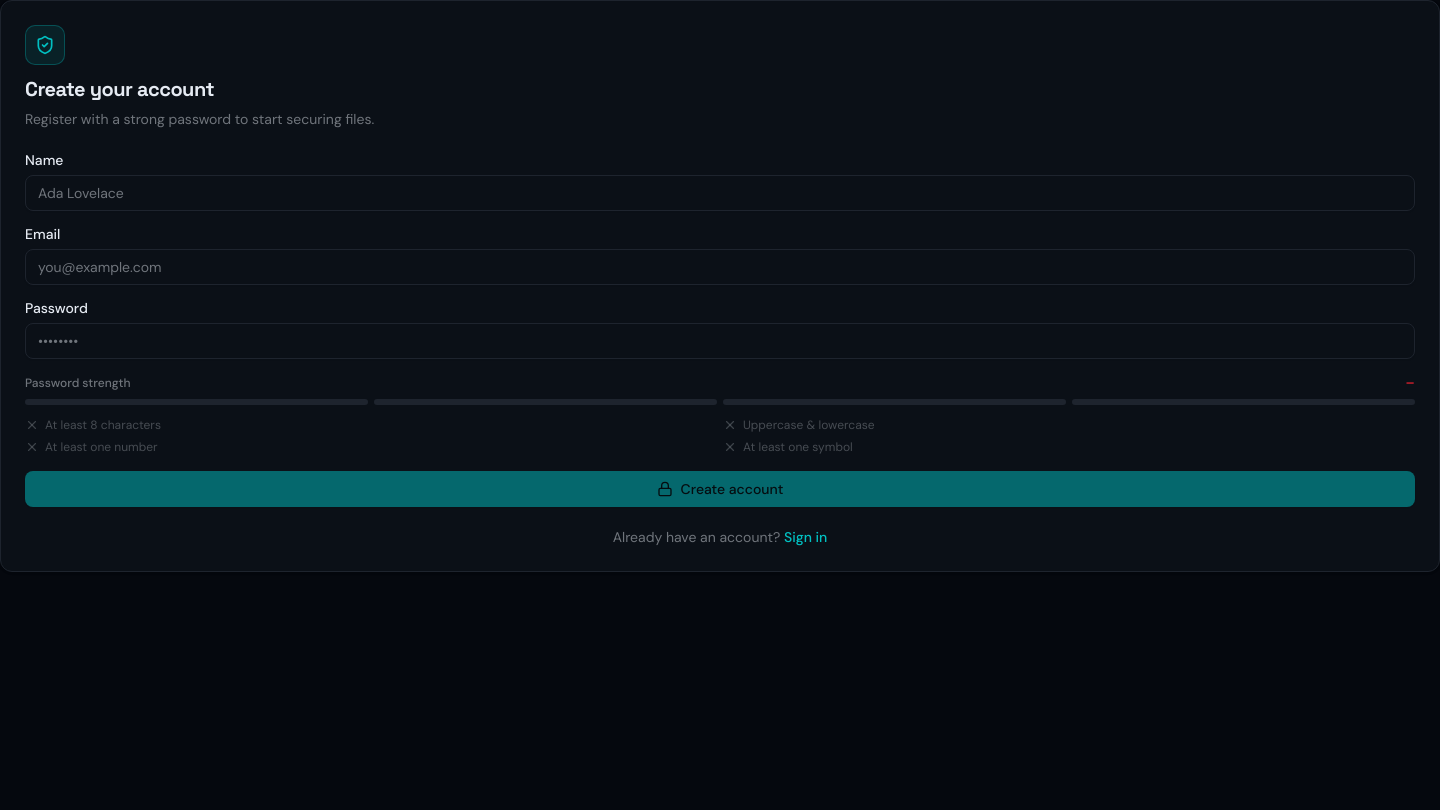
Test: RegisterPage › shows password strength and disables submit for a weak password
This screenshot has width=1440, height=810.
Type "Alice" into the field with test id "register.name_input". click: [720, 193]
box: x1=25 y1=175 x2=1415 y2=211
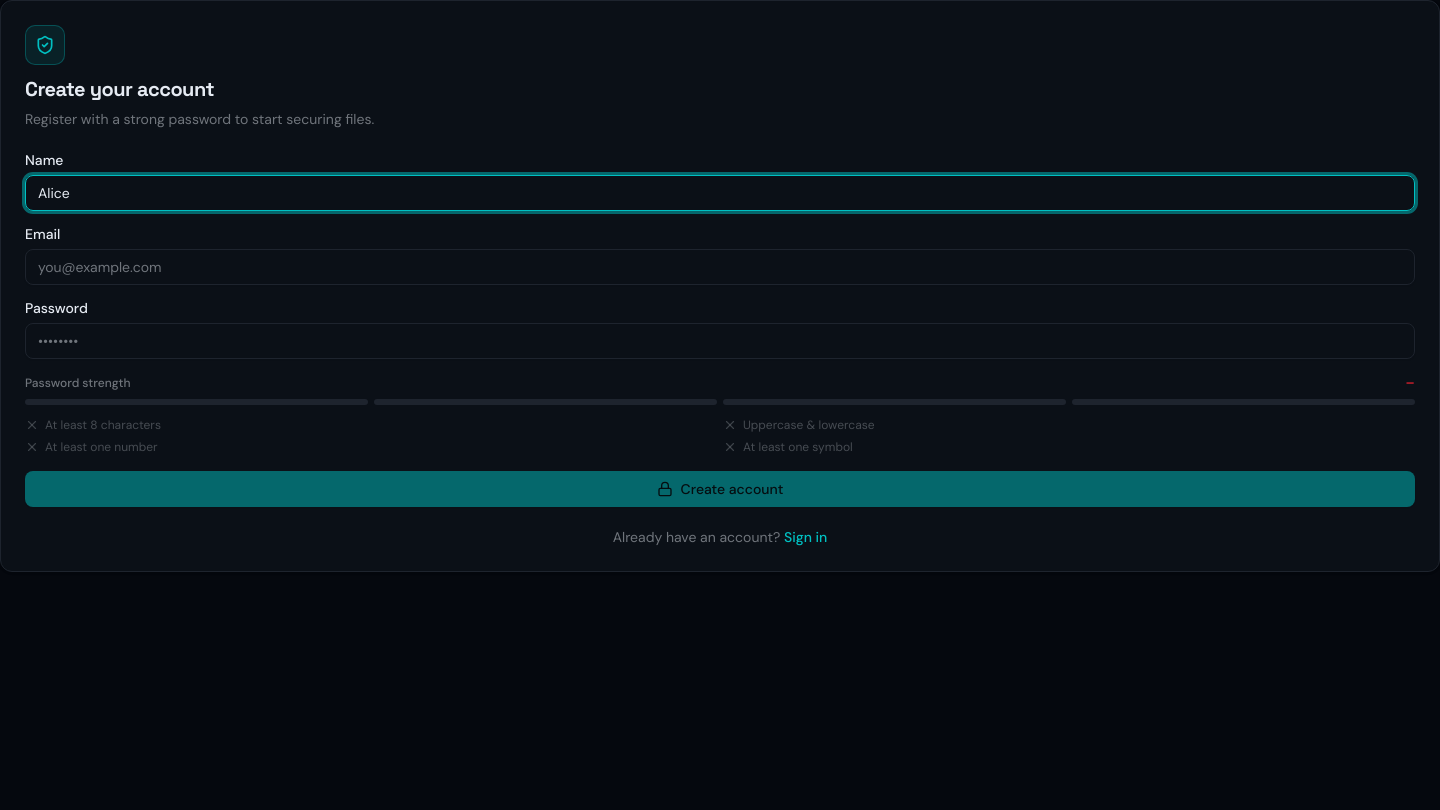
Type "alice@example.com" into the field with test id "register.email_input". click: [720, 267]
box: x1=25 y1=249 x2=1415 y2=285
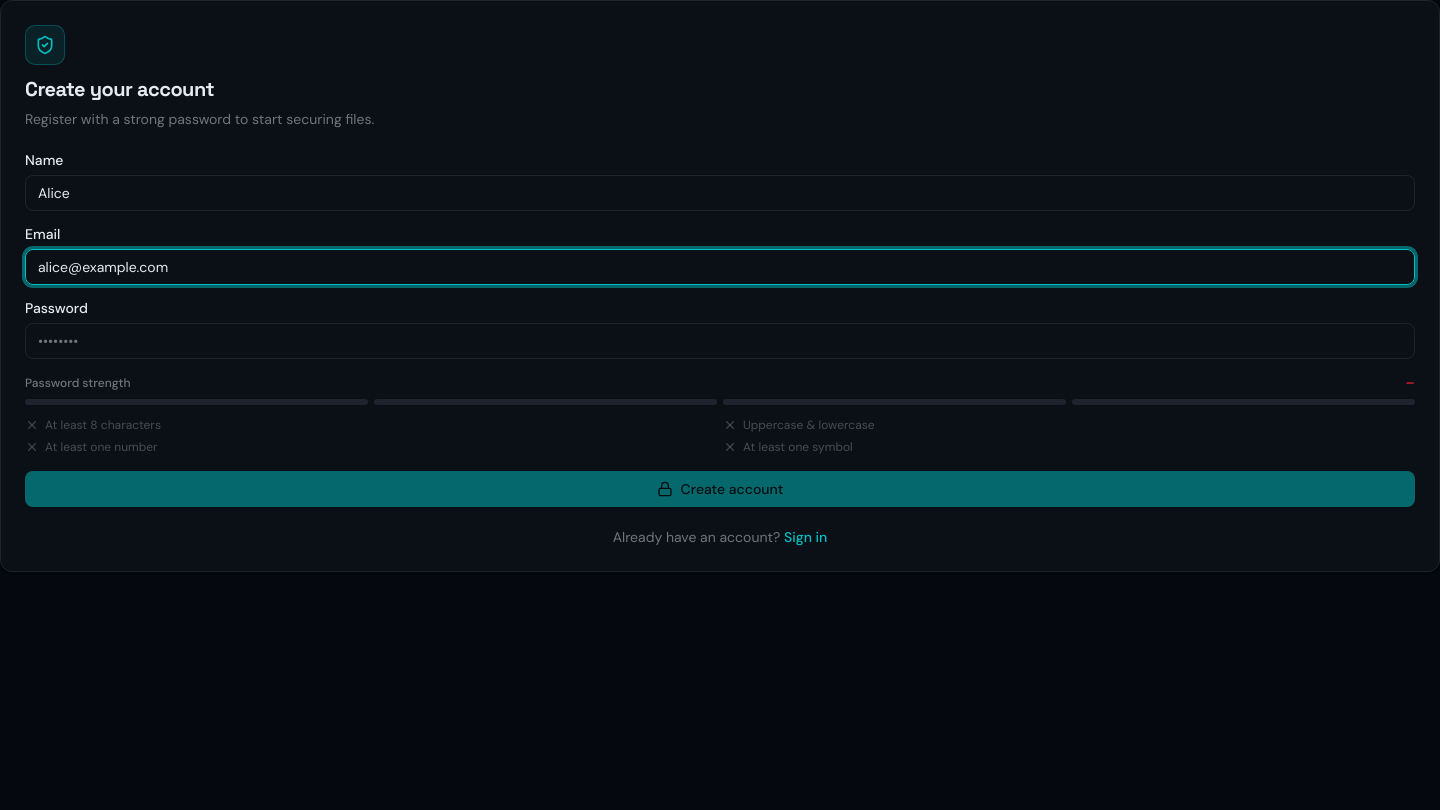
Type "short" into the password field with test id "register.password_input". click: [720, 341]
box: x1=25 y1=323 x2=1415 y2=359
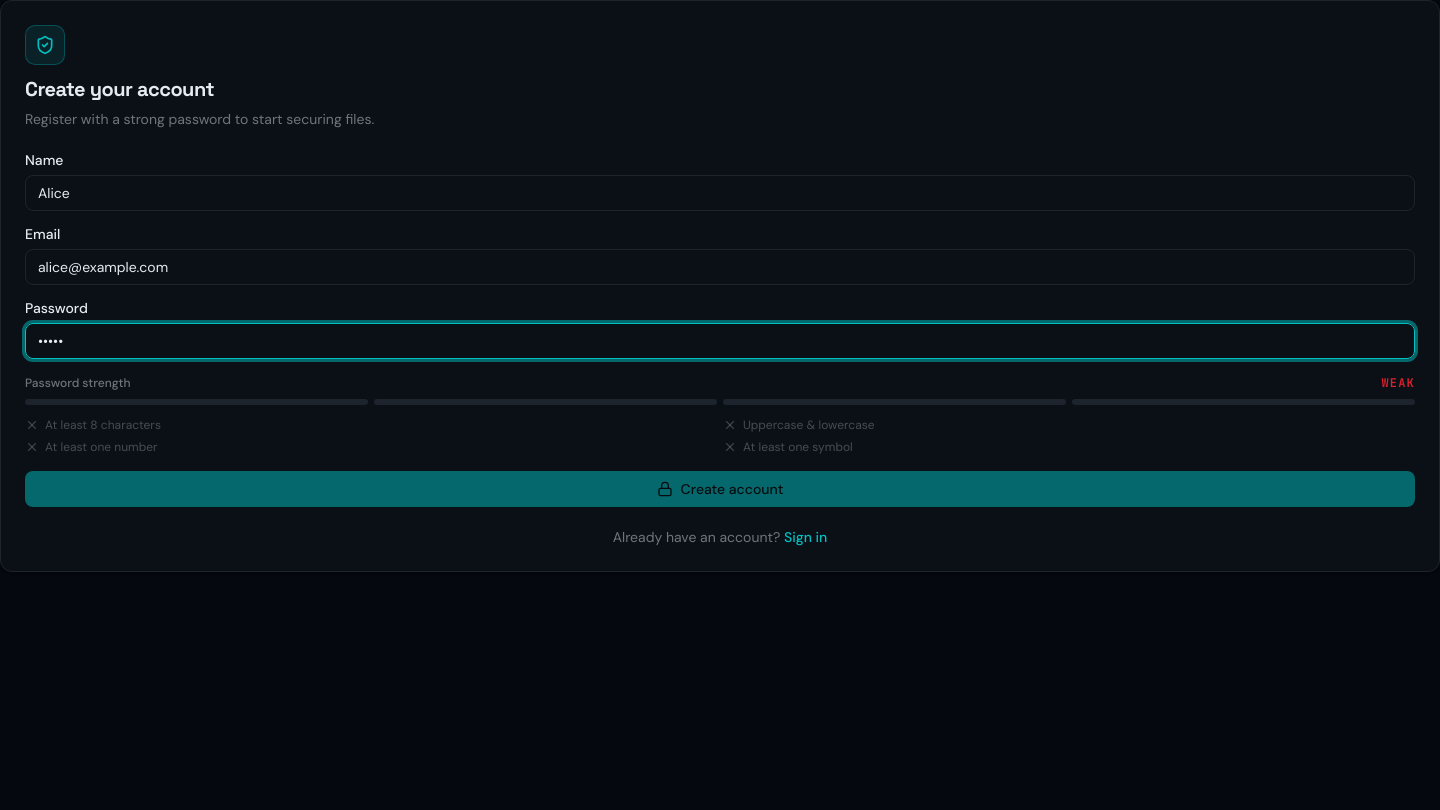
Check: the button with test id "register.submit_button" is disabled, box x1=25 y1=471 x2=1415 y2=507
Check: the text with test id "register.strength_label" reads "WEAK", box x1=1381 y1=375 x2=1415 y2=391
